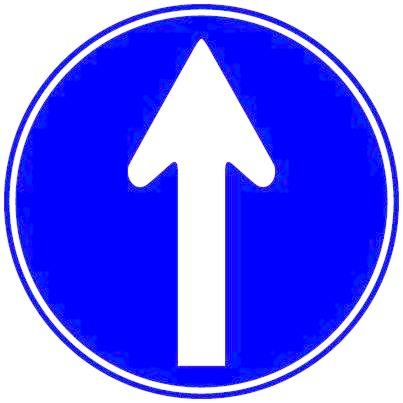Direction_sign: (2, 4, 403, 392)
